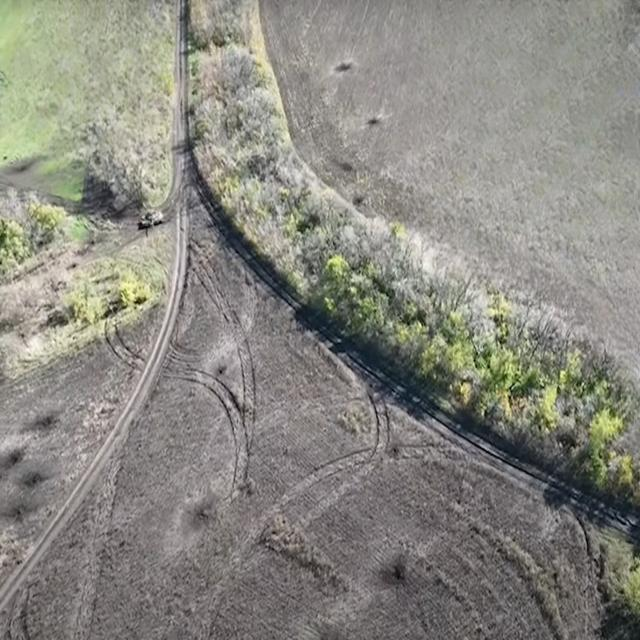MBT: (139, 209, 165, 235)
